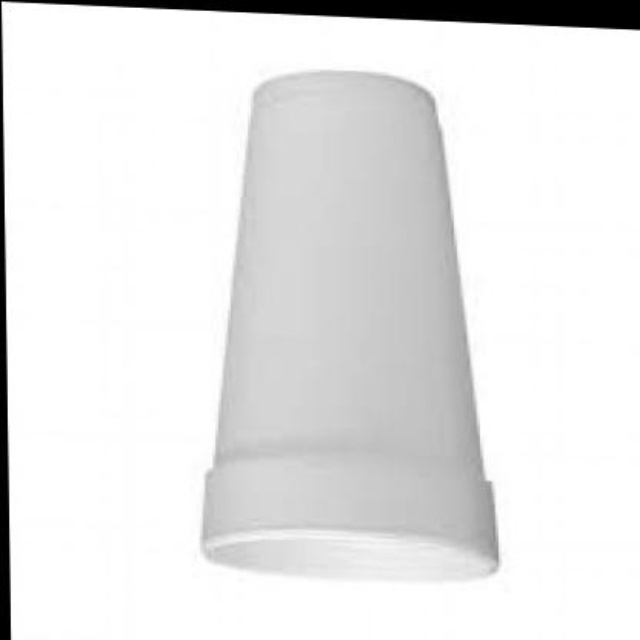trash: (203, 72, 497, 577)
